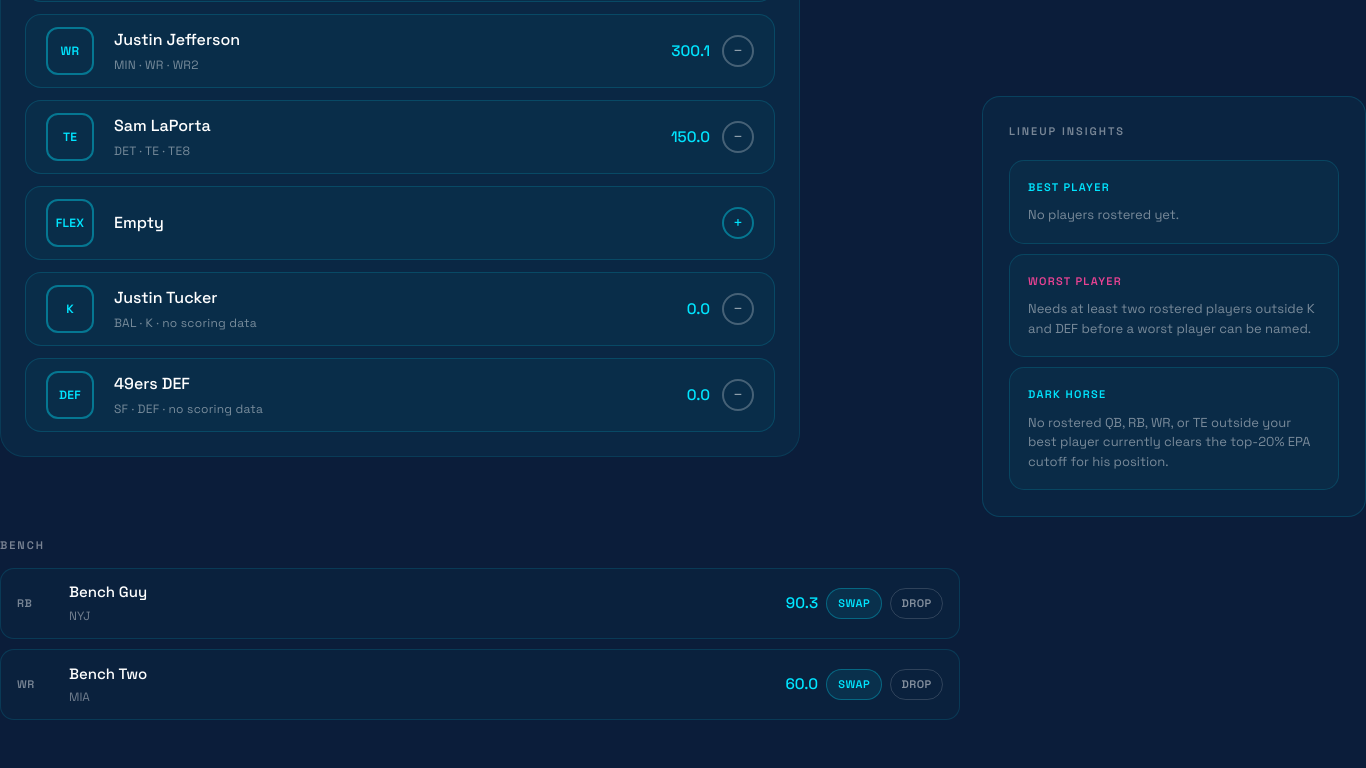
Test: ViewLineupPanel › shows an error toast and stays in swap mode when a swap-players request fails
(page scrolled)
expect the text "Bench Guy" is shown: met, box [69,581,147,604]
Click the button "SWAP" next to "90.3": [854, 603] box [826,588,882,619]
(page scrolled)
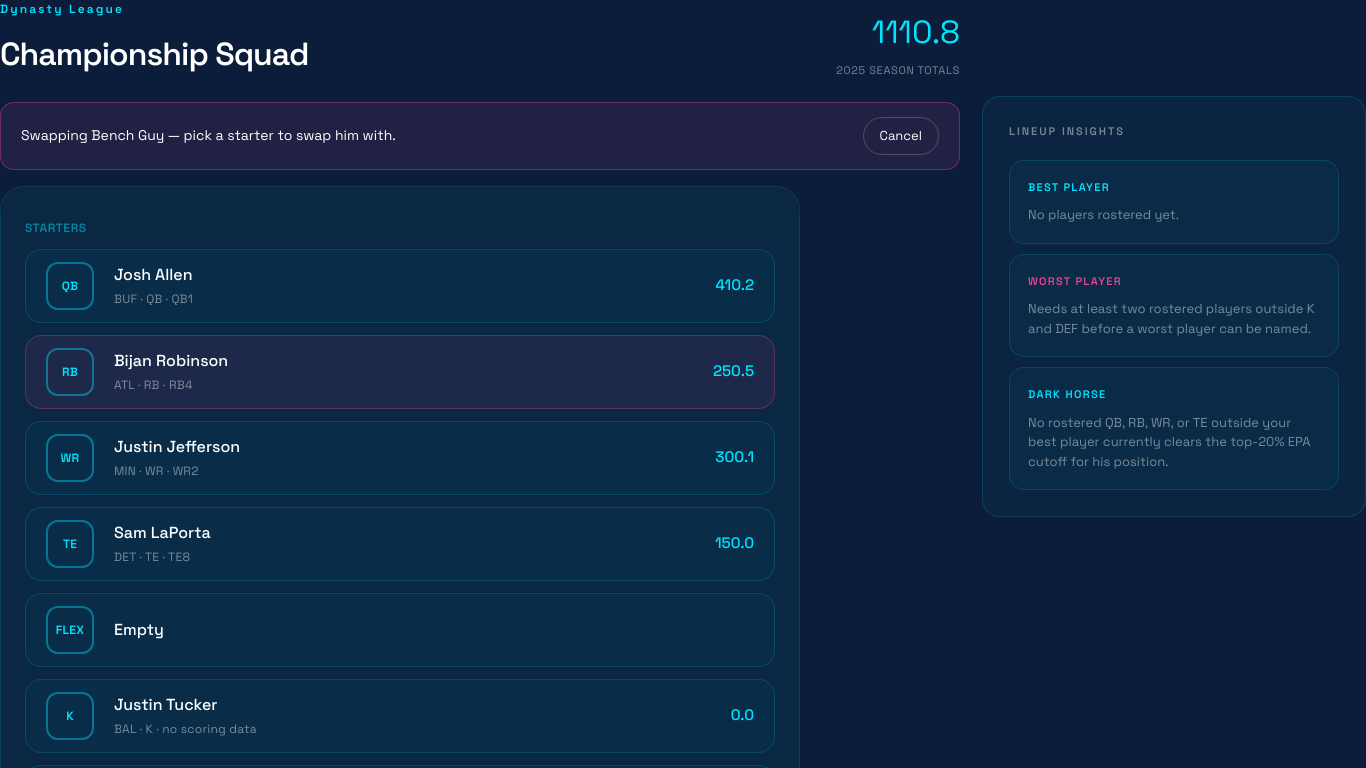
Click the text "Bijan Robinson": [171, 360] box [114,350,228,371]
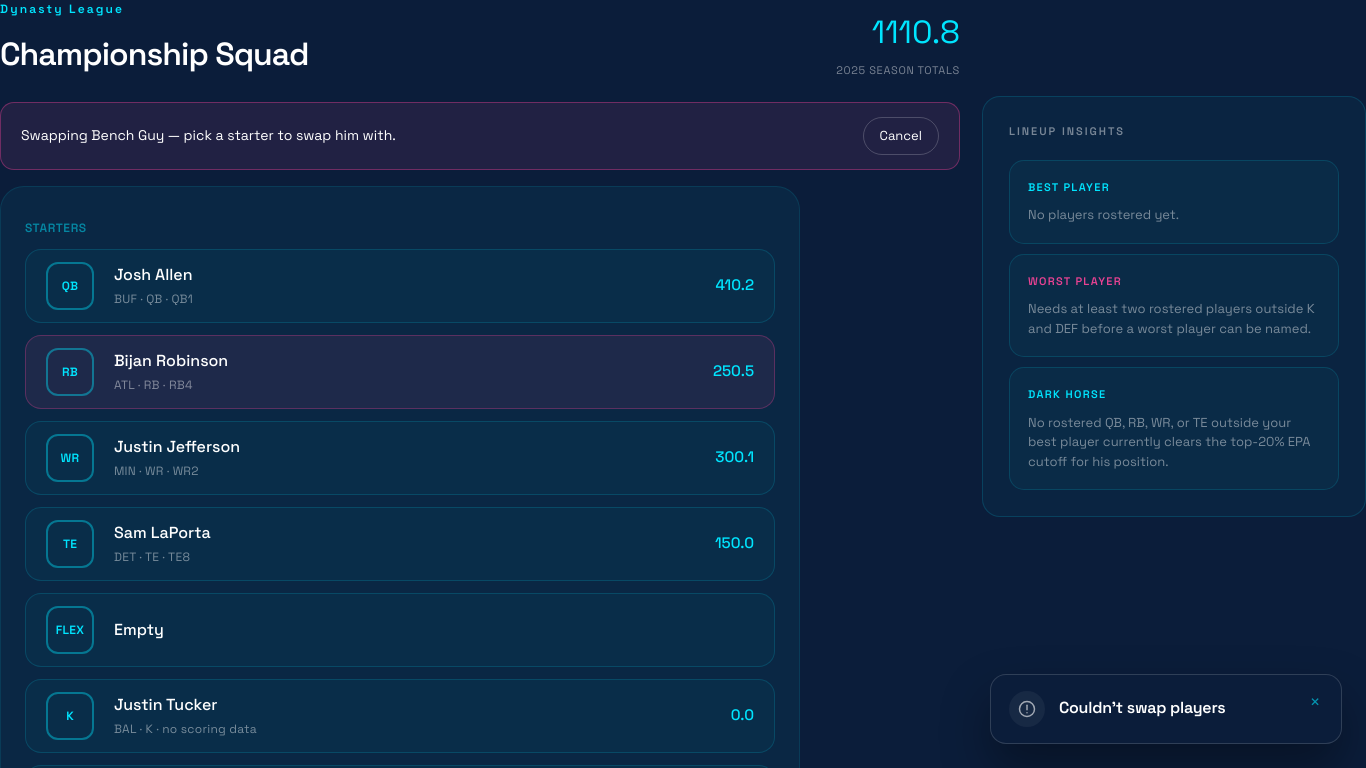
expect the text "Swapping Bench Guy — pick a starter to swap him with." is shown: met, box [21,125,396,146]
expect the text "Couldn't swap players" is shown: met, box [1059,698,1225,718]
